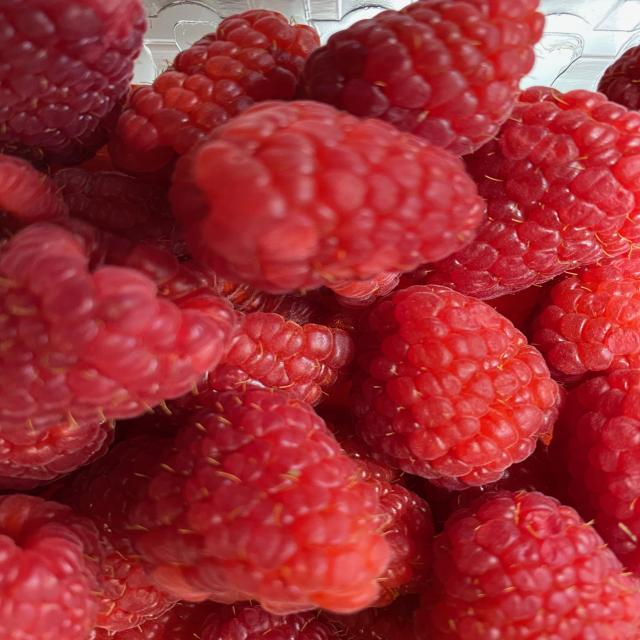raspberries: (16, 11, 627, 634)
